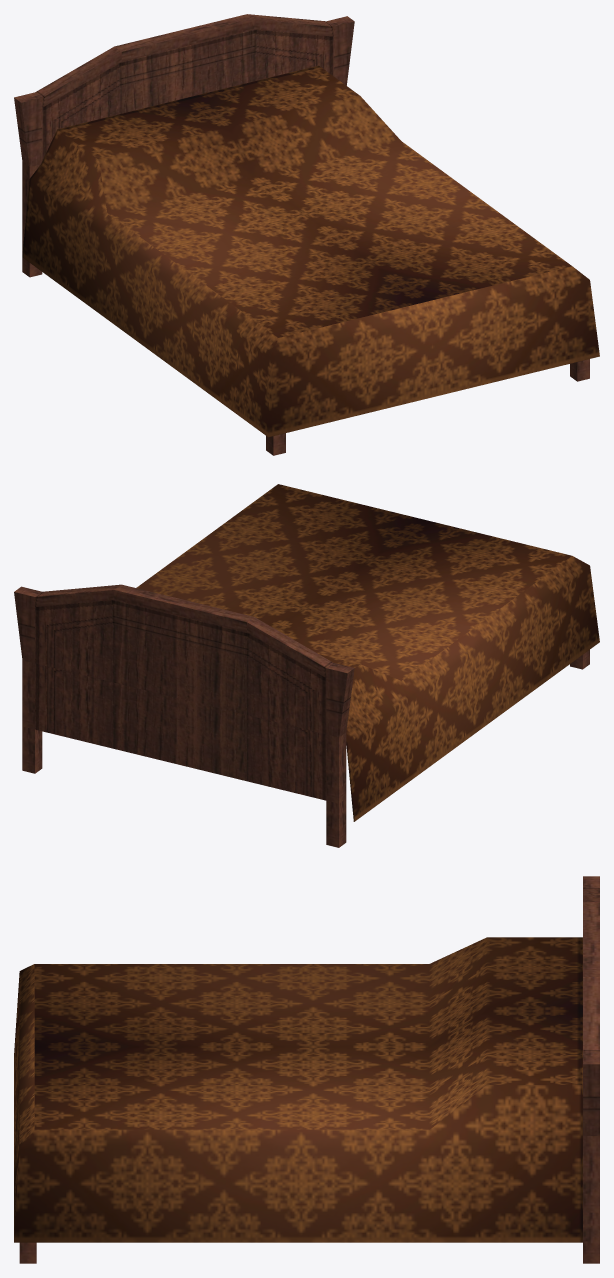
The model's file is [PSX] Bed Model.fbx.
3 renders of one model, top to bottom at view 1: azimuth 30°, elevation 25°; view 2: azimuth 150°, elevation 25°; view 3: azimuth 270°, elevation 25°, orthographic. The views are drawn at different scales.
Visible parts, largest first — view 1: Bed; view 2: Bed; view 3: Bed.
Part boxes in pixels (x1,y1,x2,y2): Bed: [14, 14, 599, 455]; Bed: [14, 484, 599, 847]; Bed: [14, 876, 599, 1263].
Bounding box in the file's own units: 158 × 92 × 208.
Materials: 1 (1 with a texture image).
